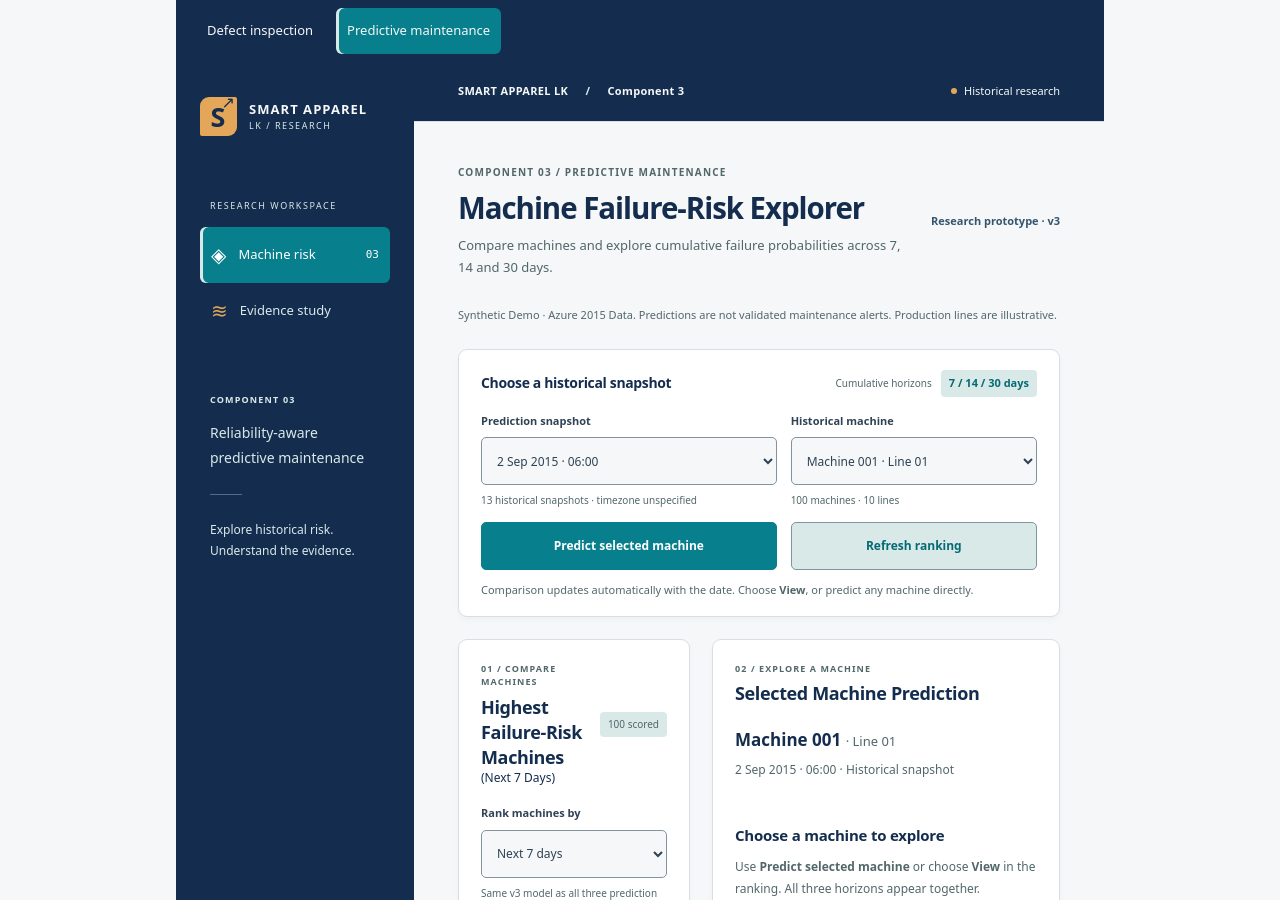
isolated experimental multi-horizon preview › fails safely on HTTP 404 without falling back to LR
Click the button "Predict selected machine" at (629, 546), box [481,522,777,570]
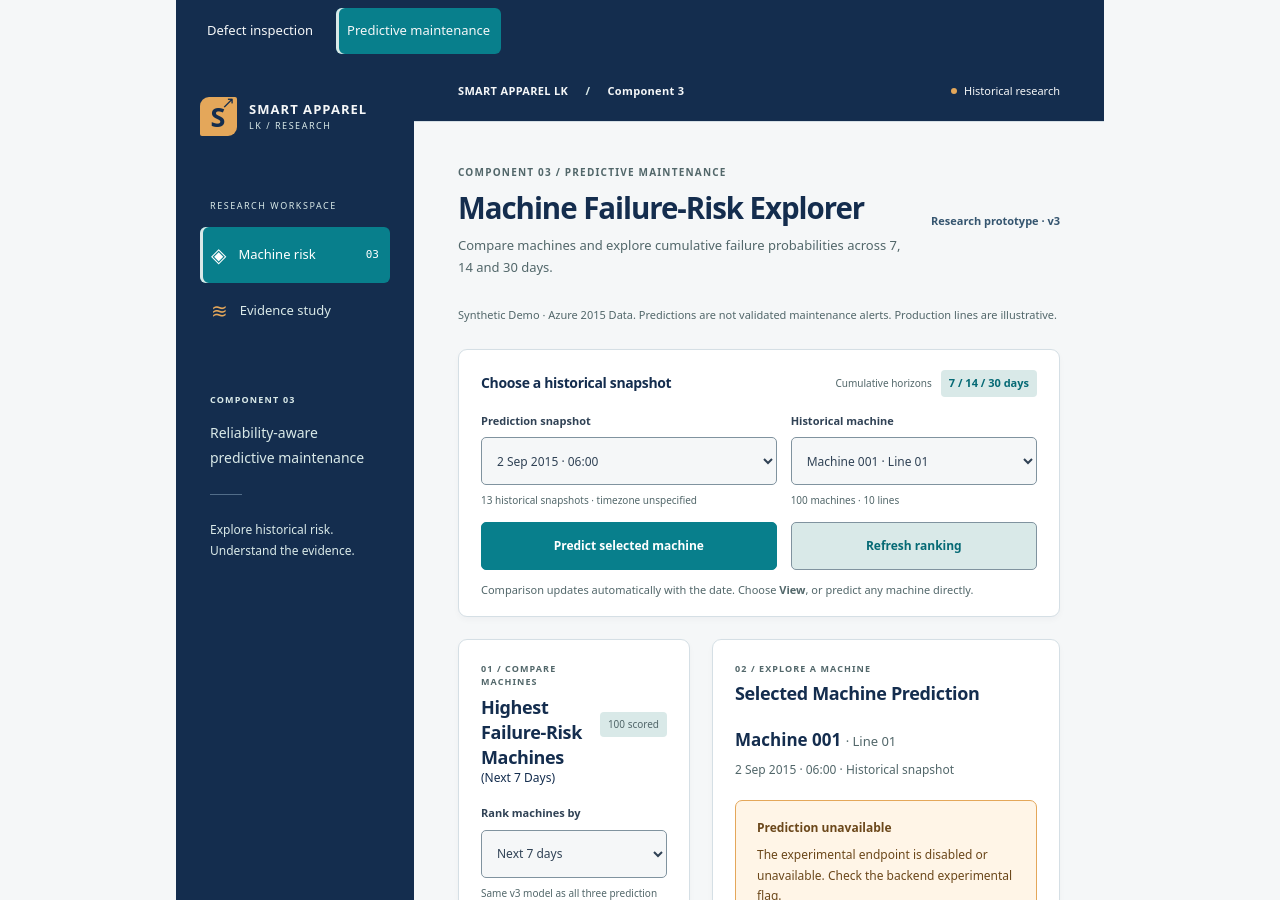
Expected: the message shows "Prediction unavailable", [757,819,892,836]
